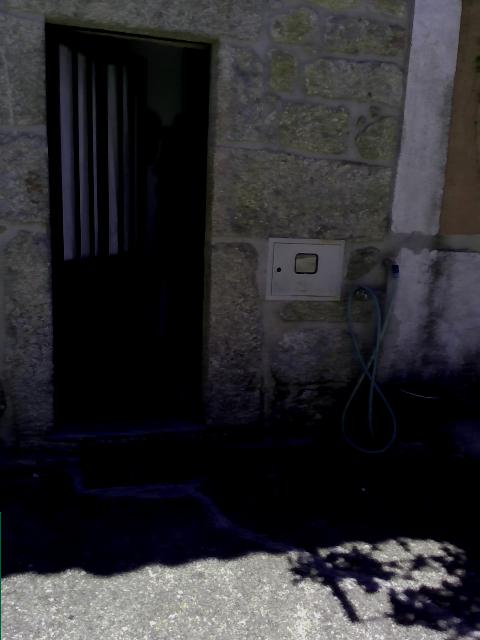semi_door: (42, 25, 213, 436)
